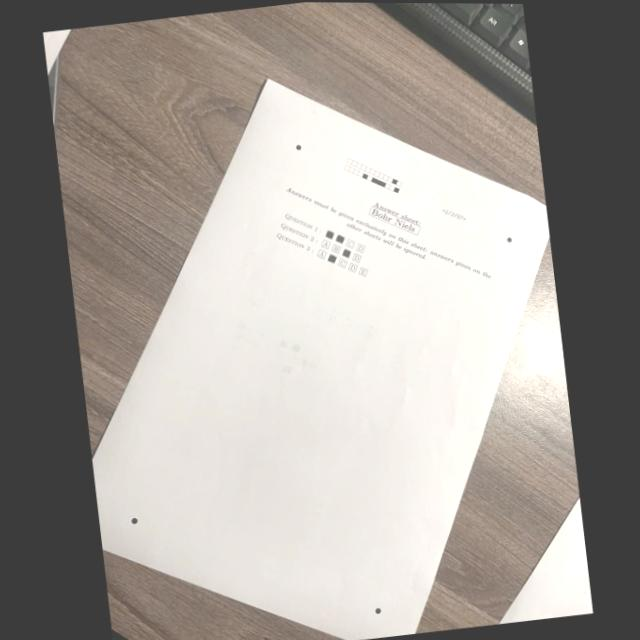Markers: (130, 515, 138, 524), (373, 607, 381, 614), (295, 143, 302, 150), (505, 235, 512, 242)
